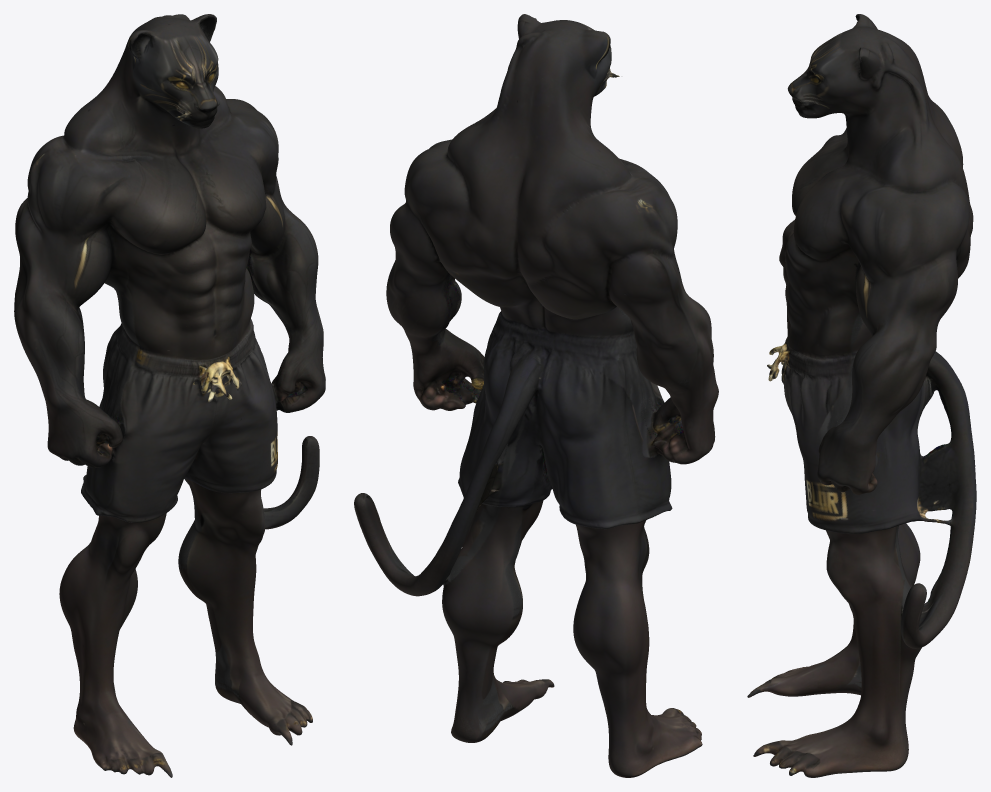
File: Havok_Pantera.glb
3 renders of one model, left to right at view 1: azimuth 30°, elevation 25°; view 2: azimuth 150°, elevation 25°; view 3: azimuth 270°, elevation 25°, orthographic. The views are drawn at different scales.
Bounding box in the file's own units: 0.9525 × 2 × 0.5965.
1 material, 1 textured.
